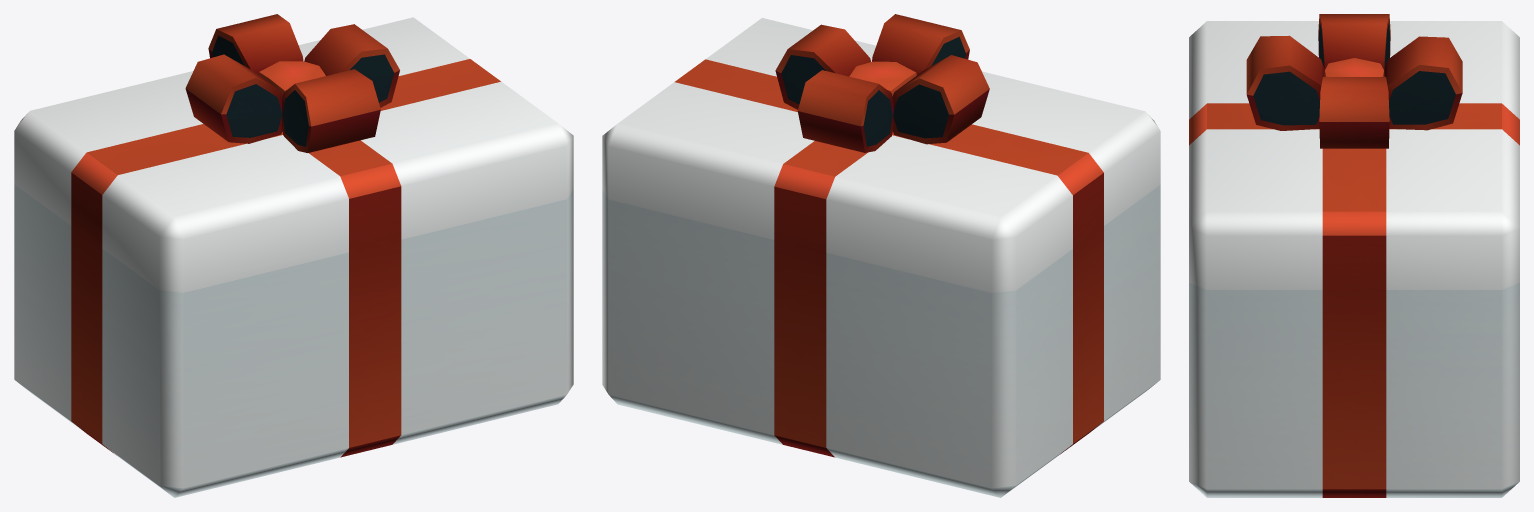
File: presi_square_1_white.fbx
3 renders of one model, left to right at view 1: azimuth 30°, elevation 25°; view 2: azimuth 150°, elevation 25°; view 3: azimuth 270°, elevation 25°, orthographic.
Parts seen in each view (by area): view 1: presi_square_1_white; view 2: presi_square_1_white; view 3: presi_square_1_white.
Boxes of the visible parts, left/top/right/bottom form: presi_square_1_white: left=14, top=14, right=573, bottom=497; presi_square_1_white: left=602, top=14, right=1160, bottom=497; presi_square_1_white: left=1189, top=14, right=1519, bottom=497.
Size of the model in its own units: 156 by 124 by 106.
Materials: 1 (1 with a texture image).
